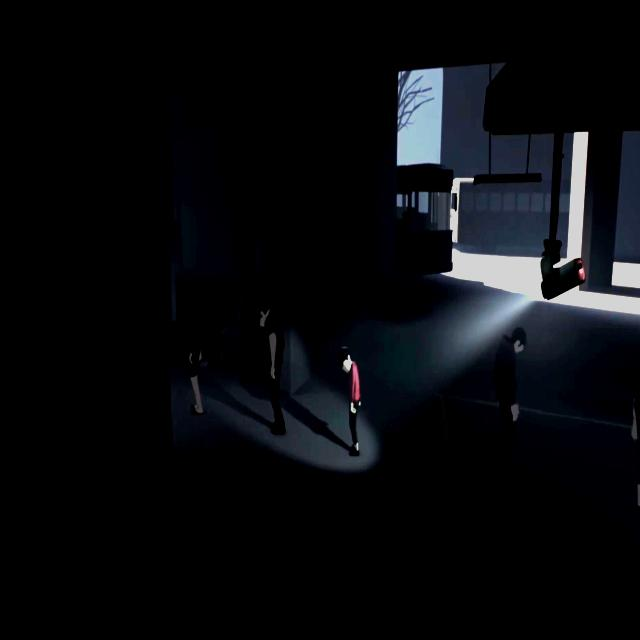boy: (338, 347, 361, 458)
zombie: (493, 328, 526, 483), (257, 300, 286, 435), (187, 287, 206, 416), (631, 352, 640, 517)
